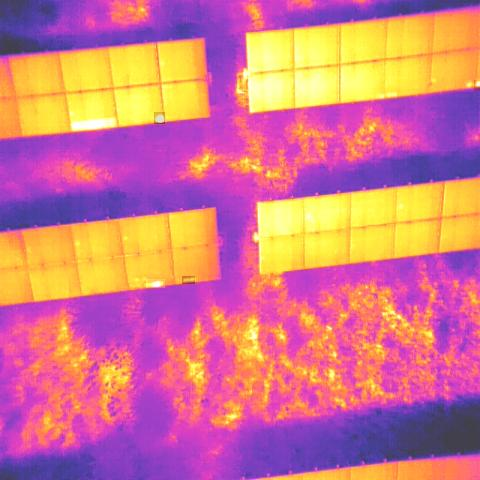fault: (70, 118, 118, 131), (146, 279, 165, 288), (154, 112, 165, 124), (182, 276, 195, 284), (474, 80, 480, 91), (465, 80, 472, 89)
